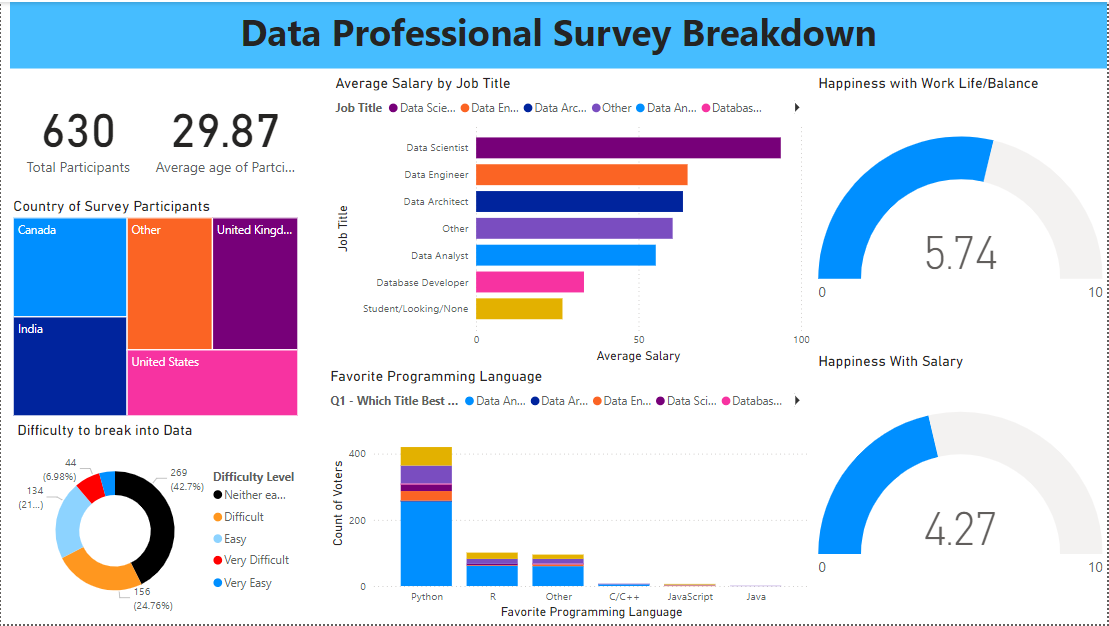

What the dashboard file says about the page in this screenshot:
{"tool":"powerbi","page":{"name":"Page 1","canvas":[1280,720],"ordinal":0},"visuals":[{"type":"textbox","box":[10.3,0,1269.7,77.1],"z":0},{"type":"card","fields":{"Values":["CountNonNull(Data Professional Survey.Unique ID)"]},"box":[0,77.1,178.6,149.1],"z":1000},{"type":"card","fields":{"Values":["Avg(Data Professional Survey.Q10 - Current Age)"]},"box":[169.6,77.1,178.6,150.4],"z":2000},{"type":"barChart","title":"Average Salary by Job Title","fields":{"Category":["Data Professional Survey.Q1 - Which Title Best Fits your Current Role?.1"],"Y":["Avg(Data Professional Survey.Average Salary)"],"Series":["Data Professional Survey.Q1 - Which Title Best Fits your Current Role?.1"]},"box":[381.7,83.5,559,339.3],"z":3000},{"type":"columnChart","title":"Favorite Programming Language","fields":{"Category":["Data Professional Survey.Q5 - Favorite Programming Language.1"],"Y":["CountNonNull(Data Professional Survey.Unique ID)"],"Series":["Data Professional Survey.Q1 - Which Title Best Fits your Current Role?.1"]},"box":[376.5,422.8,564.2,296.9],"z":4000},{"type":"treemap","title":"Country of Survey Participants","fields":{"Group":["Data Professional Survey.Q11 - Which Country do you live in?.1"],"Values":["Count(Data Professional Survey.Q11 - Which Country do you live in?.1)"]},"box":[9,226.2,339.3,258.3],"z":5000},{"type":"gauge","title":"Happiness with Work Life/Balance","fields":{"Y":["Avg(Data Professional Survey.Q6 - How Happy are you in your Current Position with the following? (Work/Life Balance))"],"MinValue":["Min(Data Professional Survey.Q6 - How Happy are you in your Current Position with the following? (Work/Life Balance))"],"MaxValue":["Max(Data Professional Survey.Q6 - How Happy are you in your Current Position with the following? (Work/Life Balance))"]},"box":[940.7,83.5,339.3,321.3],"z":6000},{"type":"gauge","title":"Happiness With Salary","fields":{"Y":["Avg(Data Professional Survey.Q6 - How Happy are you in your Current Position with the following? (Salary))"],"MinValue":["Min(Data Professional Survey.Q6 - How Happy are you in your Current Position with the following? (Salary))"],"MaxValue":["Max(Data Professional Survey.Q6 - How Happy are you in your Current Position with the following? (Salary))1"]},"box":[940.7,404.8,339.3,314.9],"z":7000},{"type":"donutChart","title":"Difficulty to break into Data","fields":{"Category":["Data Professional Survey.Q7 - How difficult was it for you to break into Data?"],"Y":["CountNonNull(Data Professional Survey.Q7 - How difficult was it for you to break into Data?)"]},"box":[14.1,484.5,334.1,235.2],"z":8000}]}

Visuals, with their boxes in screenshot pixels (x1, y1, x2, y2), scaled from the page's 1280x720 canvas onto the 1109x626 screenshot:
textbox: x1=9, y1=0, x2=1108, y2=67
card - CountNonNull(Data Professional Survey.Unique ID): x1=0, y1=67, x2=155, y2=197
card - Avg(Data Professional Survey.Q10 - Current Age): x1=147, y1=67, x2=302, y2=198
"Average Salary by Job Title" barChart: x1=331, y1=73, x2=815, y2=368
"Favorite Programming Language" columnChart: x1=326, y1=368, x2=815, y2=625
"Country of Survey Participants" treemap: x1=8, y1=197, x2=302, y2=421
"Happiness with Work Life/Balance" gauge: x1=815, y1=73, x2=1108, y2=352
"Happiness With Salary" gauge: x1=815, y1=352, x2=1108, y2=625
"Difficulty to break into Data" donutChart: x1=12, y1=421, x2=302, y2=625
